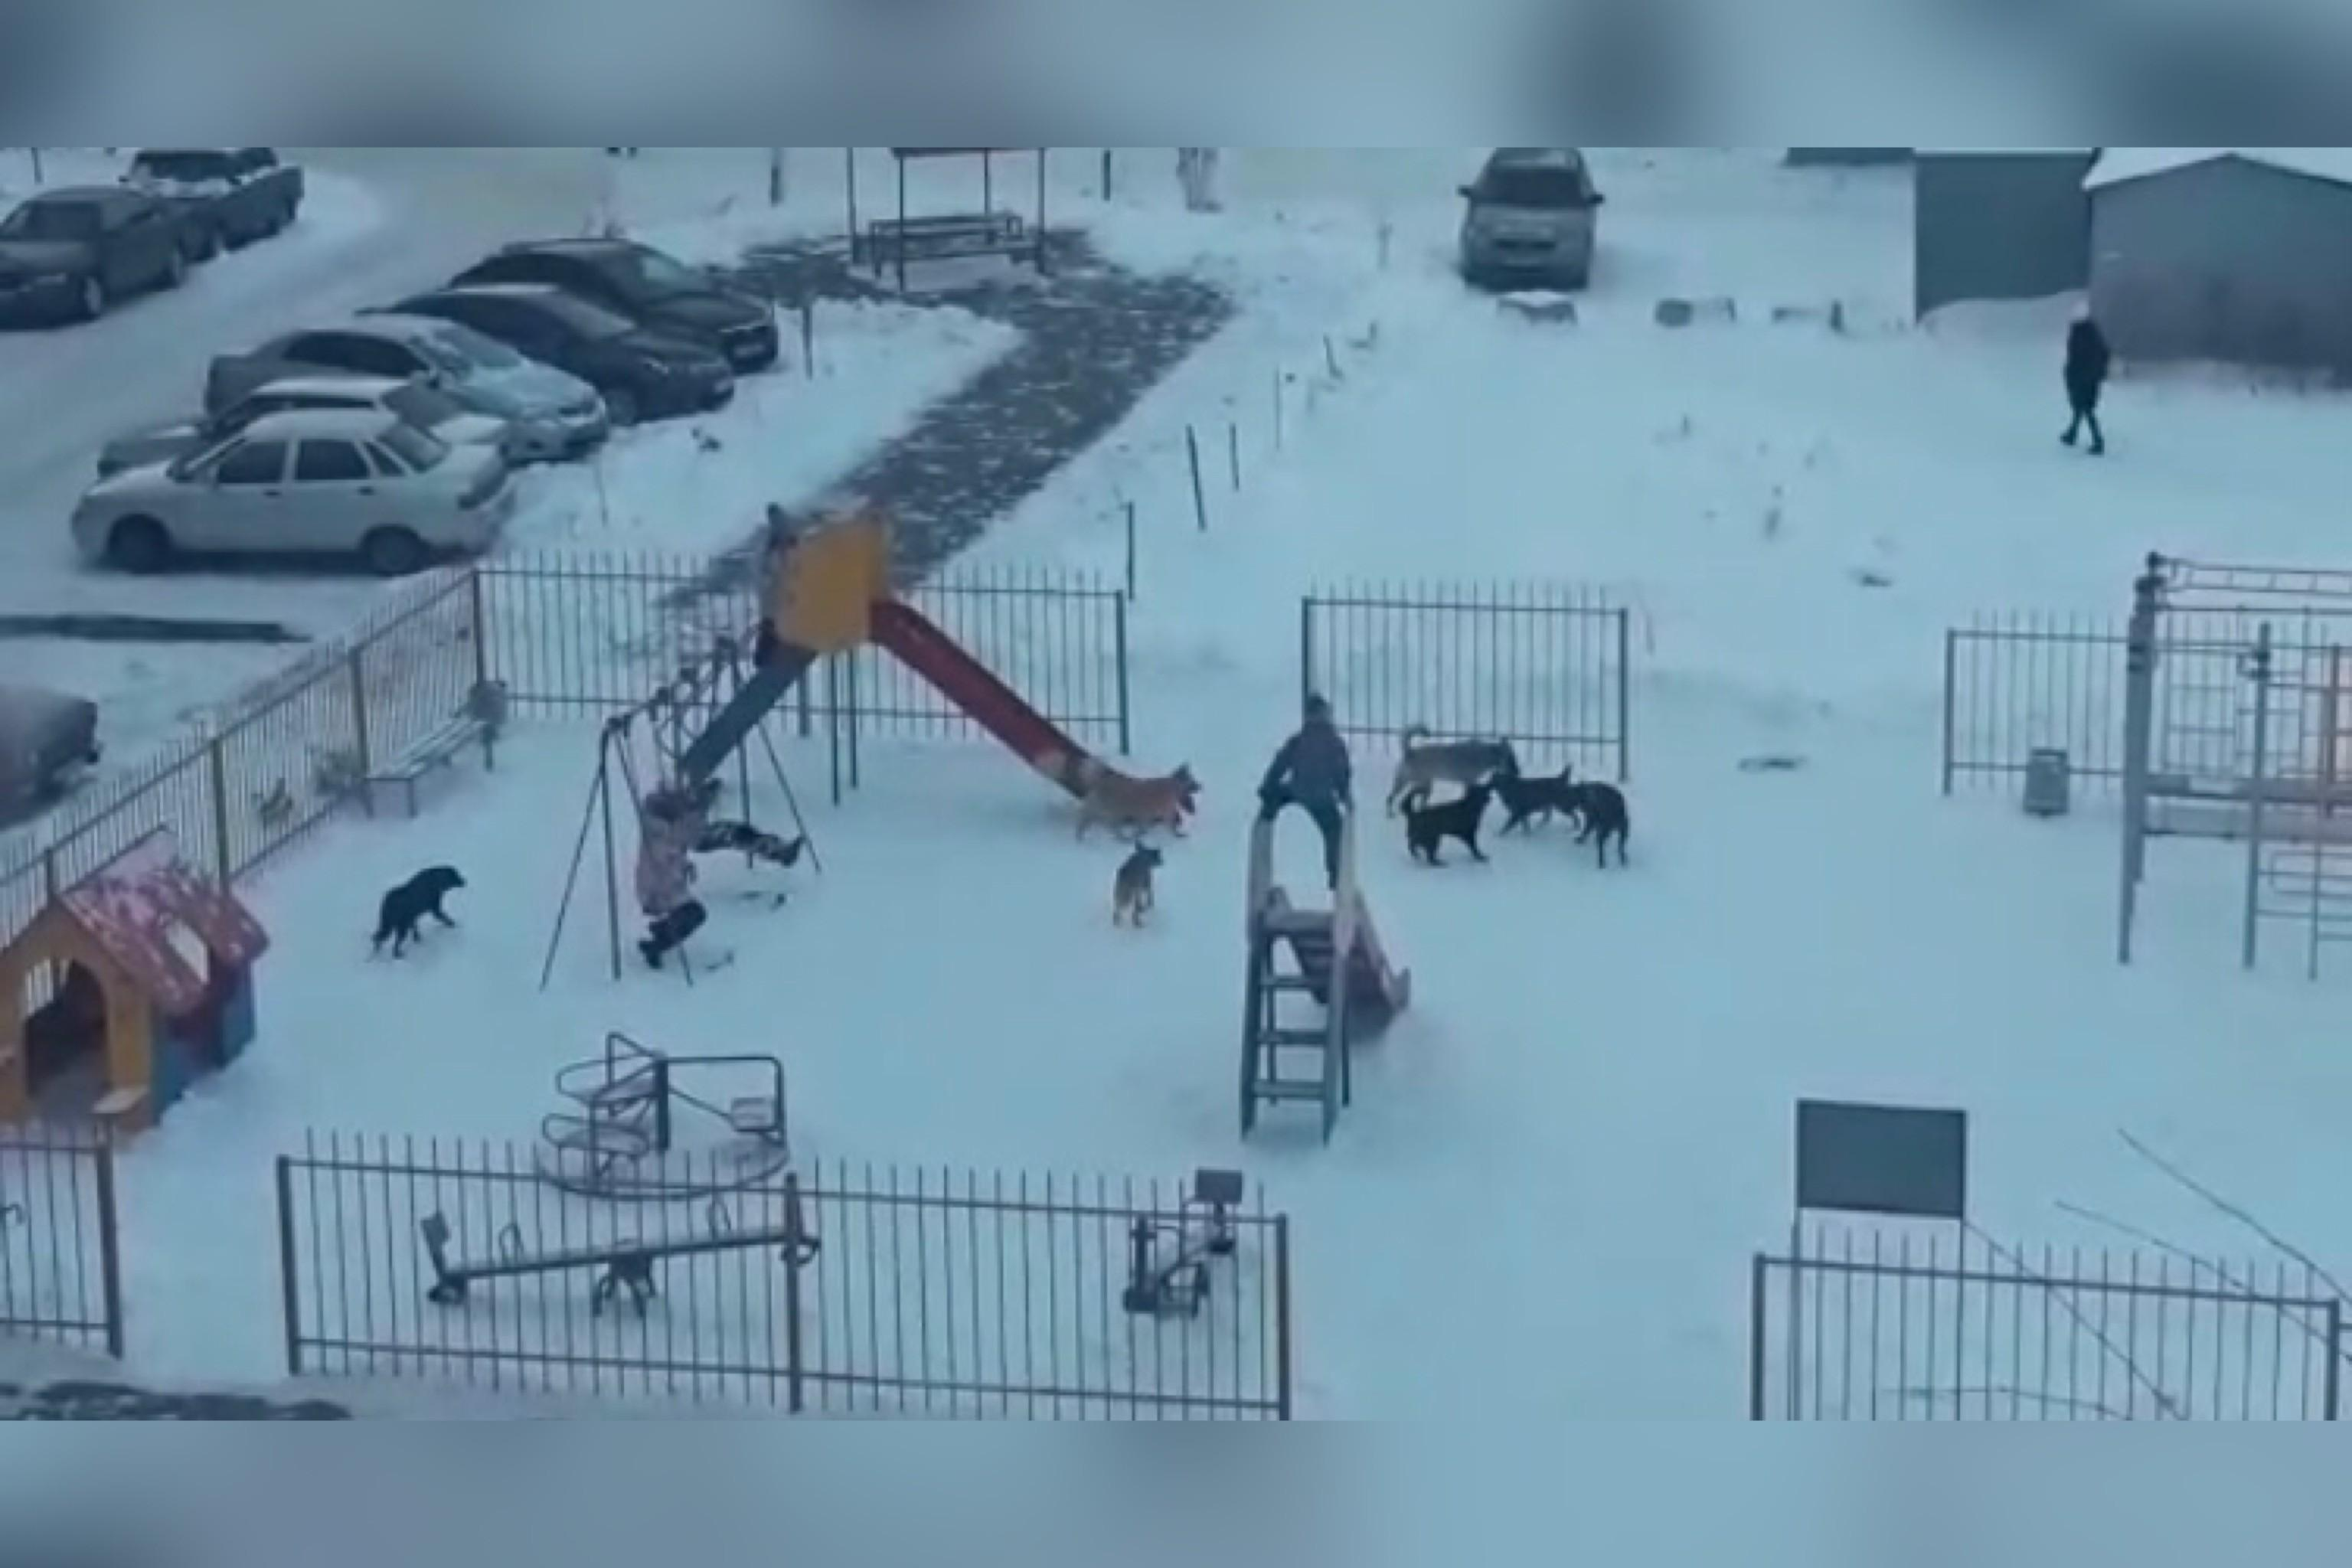dog_aggressive: (1067, 756, 1206, 840), (367, 863, 469, 961), (1400, 782, 1493, 866)
normal_dogs: (1384, 726, 1521, 819), (1487, 761, 1582, 833), (1575, 777, 1633, 870), (1109, 840, 1164, 927)
